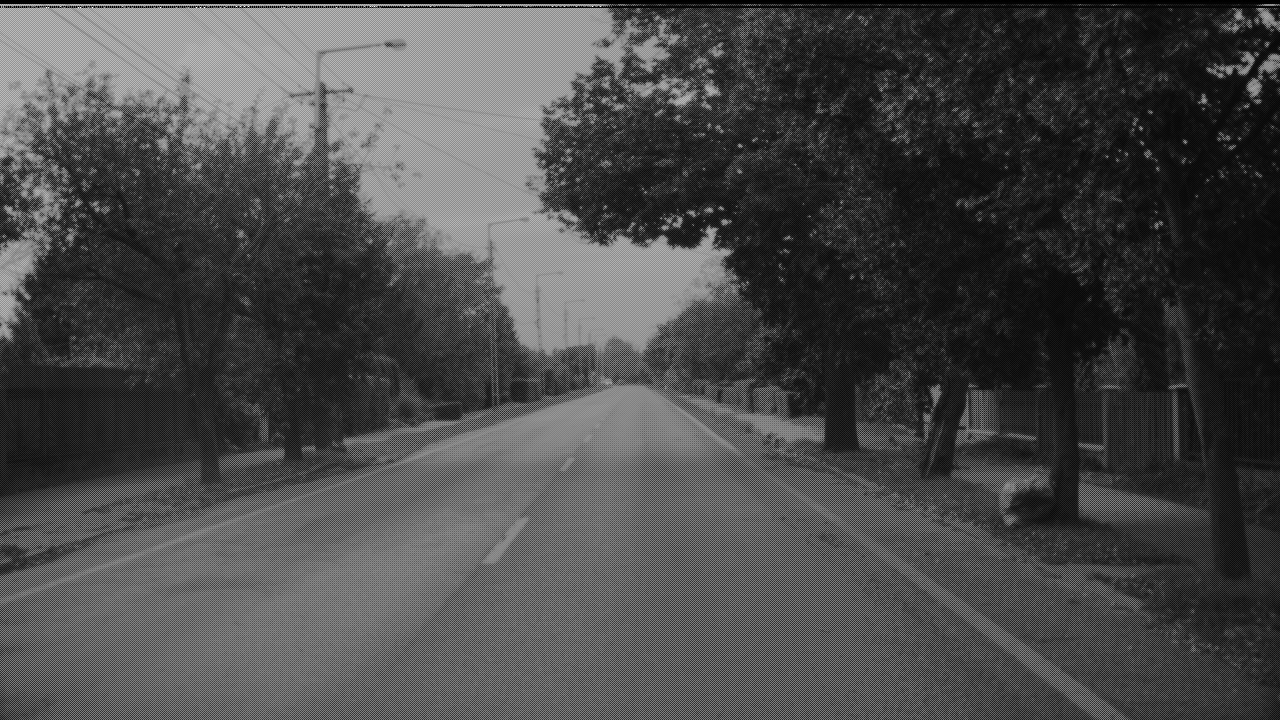pole: (487, 214, 499, 399), (533, 265, 545, 390)
